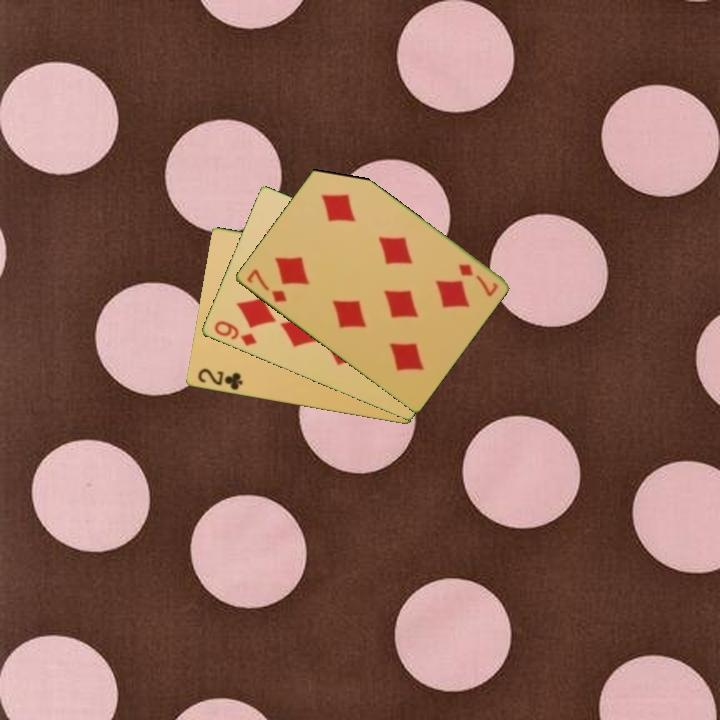2c: (194, 365, 245, 393)
7d: (243, 265, 289, 306), (454, 260, 501, 299)
9d: (210, 317, 259, 349)
